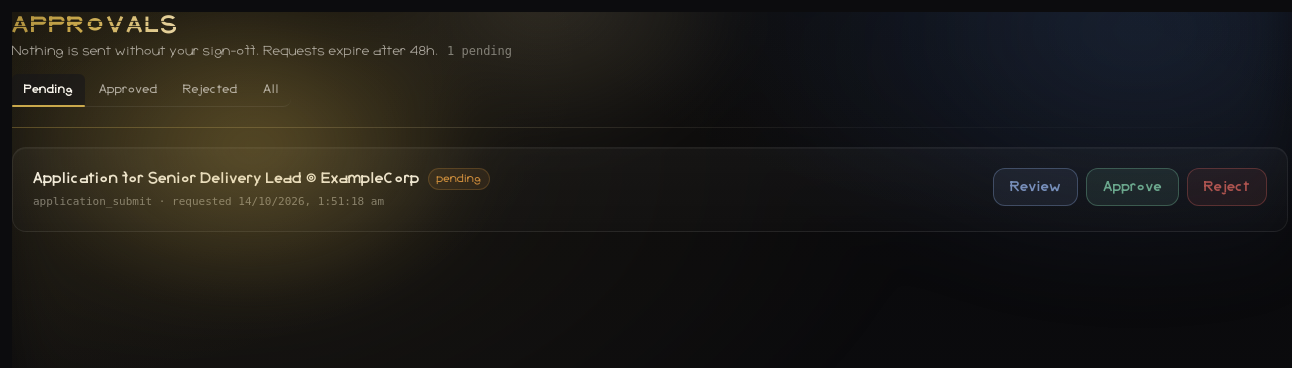
Test: a failed send stays visible and is really retryable (MUST-FIX 2) › the single-card failure copy names the Retry send affordance, which is then on screen
Click the button with test id "approve-btn".
click(1133, 187)  # box [1086,168,1179,206]
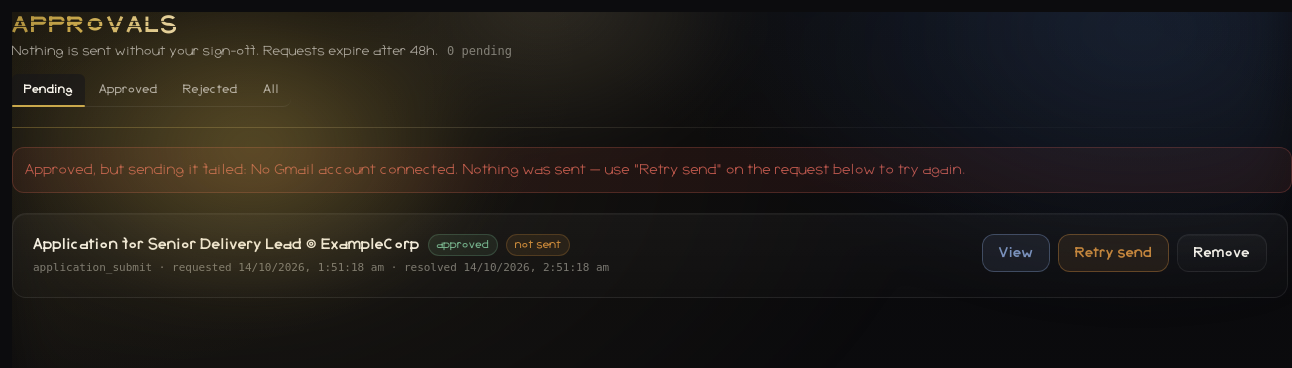
Result: the message shows "retry send" at [25,163,966,177]
Result: the button with test id "retry-send-btn" is shown at [1058,234,1169,272]
